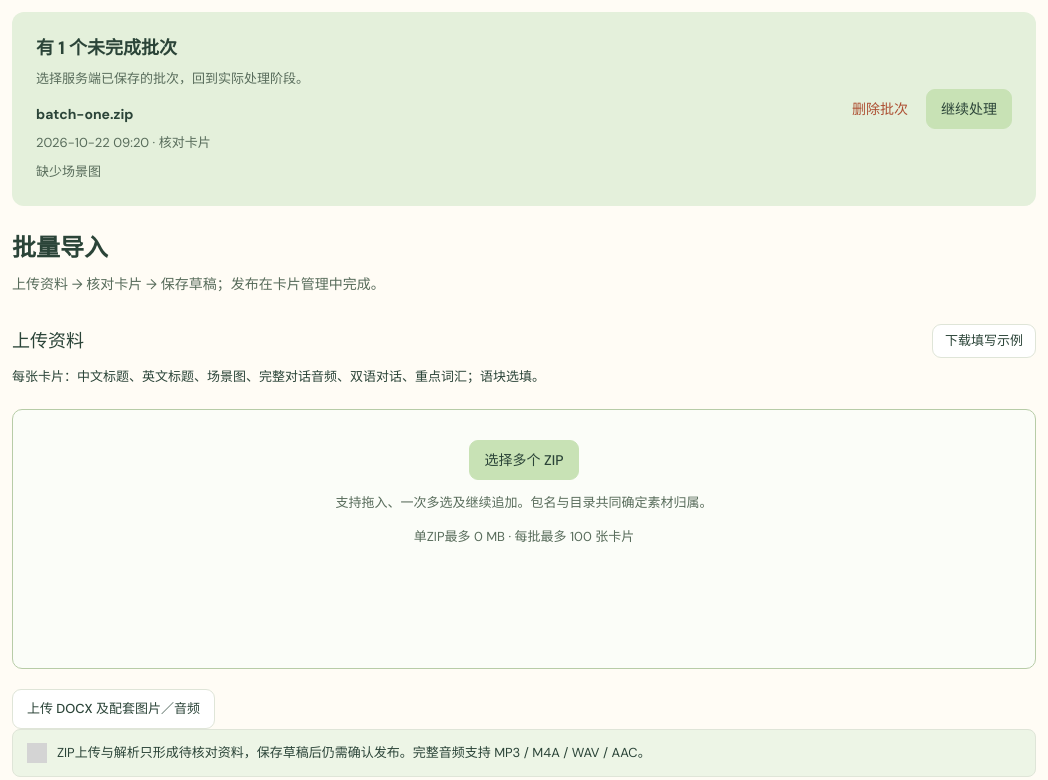
Test: requires explicit selection and revalidates the sole batch before restoring saved review inputs
This screenshot has width=1048, height=780.
Click the button "继续处理": x=969, y=109 [926, 89, 1012, 129]
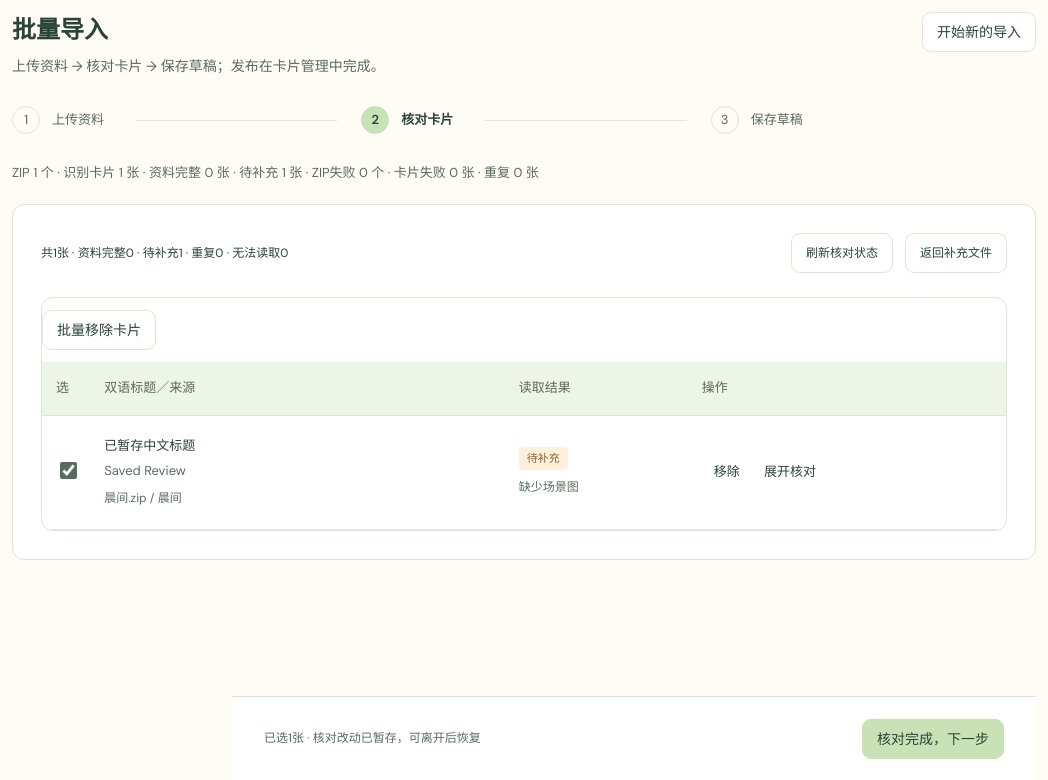
Result: the text "已暂存中文标题" is shown at [104, 436, 195, 457]
Result: the list item "2 核对卡片" is shown at [361, 106, 453, 134]
